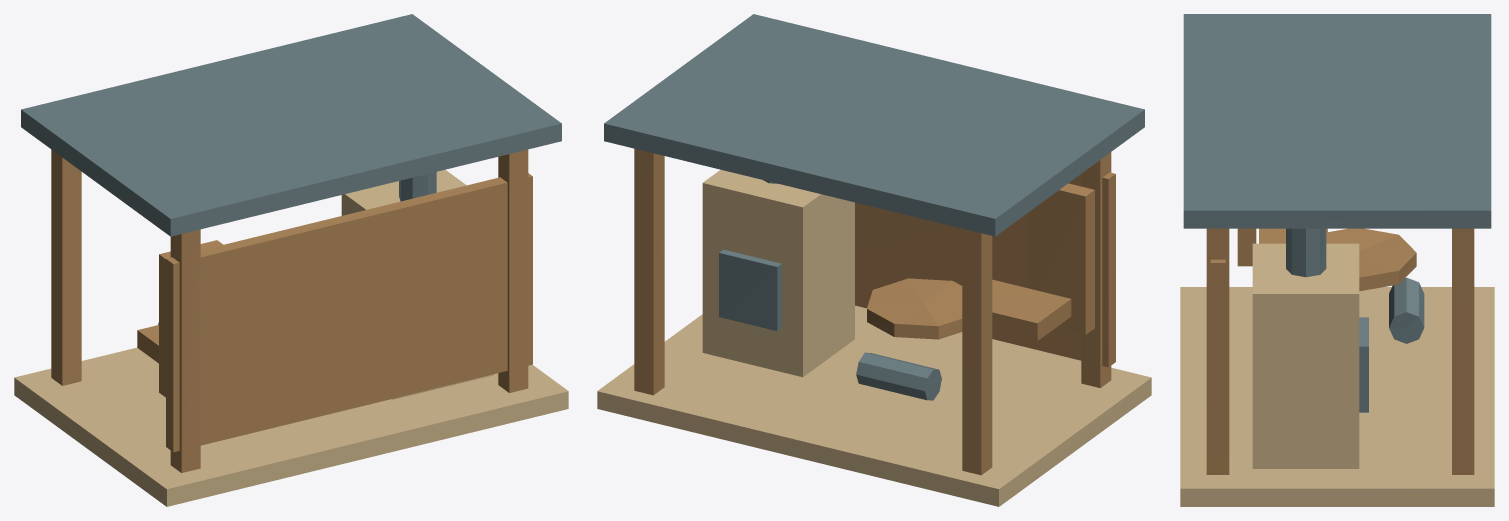
Rendered from Pottery-Workshop.glb.
The picture shows the model from 3 angles, left to right: view 1: azimuth 30°, elevation 25°; view 2: azimuth 150°, elevation 25°; view 3: azimuth 270°, elevation 25°; orthographic projection. The views are drawn at different scales.
Parts seen in each view (by area): view 1: pottery-workshop-static-pot-timber, pottery-workshop-static-pot-iron, pottery-workshop-static-pot-cream, pottery-workshop-static-pot-stone, pottery-workshop-static-pot-teal; view 2: pottery-workshop-static-pot-iron, pottery-workshop-static-pot-cream, pottery-workshop-static-pot-timber, pottery-workshop-static-pot-stone, pottery-workshop-static-pot-teal; view 3: pottery-workshop-static-pot-iron, pottery-workshop-static-pot-cream, pottery-workshop-static-pot-stone, pottery-workshop-static-pot-timber, pottery-workshop-static-pot-teal.
Boxes of the visible parts, x1,y1,x2,y2 form: pottery-workshop-static-pot-timber: (51, 149, 532, 472); pottery-workshop-static-pot-iron: (21, 14, 561, 324); pottery-workshop-static-pot-cream: (14, 347, 568, 506); pottery-workshop-static-pot-stone: (341, 169, 493, 399); pottery-workshop-static-pot-teal: (159, 240, 223, 397); pottery-workshop-static-pot-iron: (604, 14, 1144, 400); pottery-workshop-static-pot-cream: (597, 305, 1151, 506); pottery-workshop-static-pot-timber: (634, 148, 1115, 475); pottery-workshop-static-pot-stone: (702, 169, 854, 377); pottery-workshop-static-pot-teal: (867, 183, 1094, 339); pottery-workshop-static-pot-iron: (1183, 14, 1491, 412); pottery-workshop-static-pot-cream: (1180, 287, 1494, 506); pottery-workshop-static-pot-stone: (1252, 243, 1359, 468); pottery-workshop-static-pot-timber: (1206, 228, 1474, 474); pottery-workshop-static-pot-teal: (1237, 228, 1416, 291).
Size of the model in its own units: 3.8 by 2.58 by 2.5.
